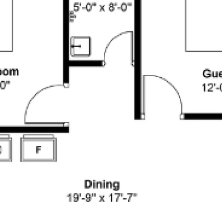door: (17, 78, 73, 125), (141, 70, 185, 124), (102, 22, 135, 72)
